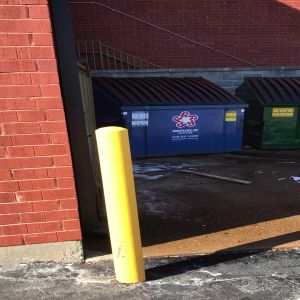Dumpster: (89, 75, 250, 157), (244, 76, 300, 152)
